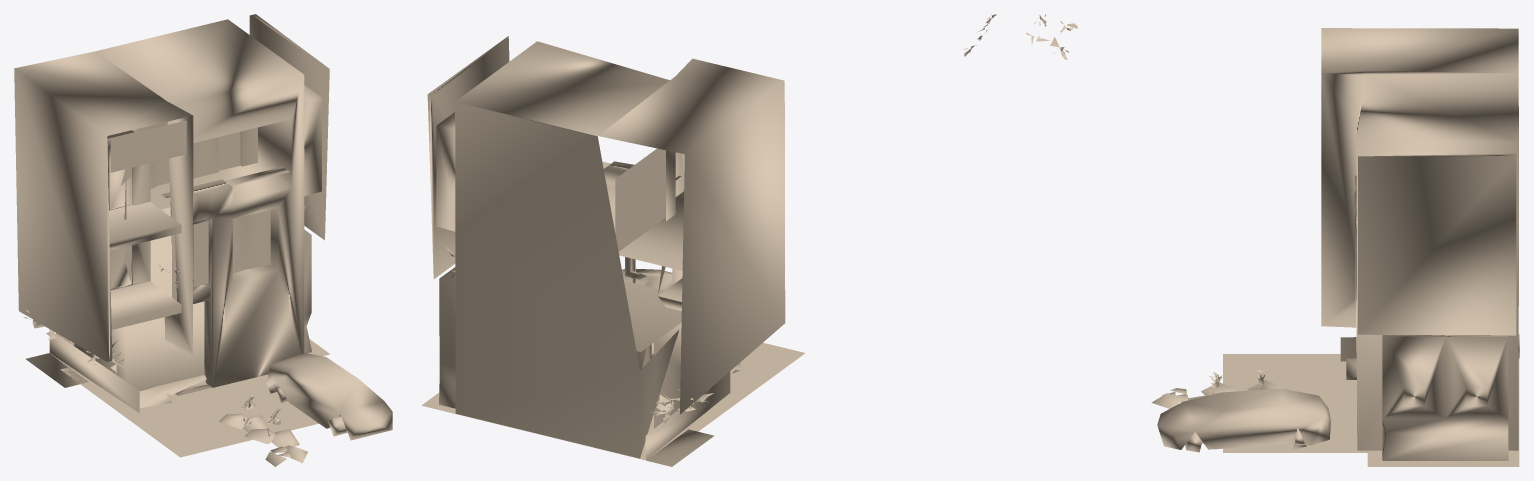
File: modern-house-lod.glb
3 views of the same model, side by side, from view 1: azimuth 30°, elevation 25°; view 2: azimuth 150°, elevation 25°; view 3: azimuth 270°, elevation 25° (orthographic). The views are drawn at different scales.
Parts seen in each view (by area): view 1: tripo_41f612b3_8e57_4923_981b_d7cf9720ebb3; view 2: tripo_41f612b3_8e57_4923_981b_d7cf9720ebb3; view 3: tripo_41f612b3_8e57_4923_981b_d7cf9720ebb3.
Boxes of the visible parts, x1,y1,x2,y2 form: tripo_41f612b3_8e57_4923_981b_d7cf9720ebb3: [14, 14, 392, 466]; tripo_41f612b3_8e57_4923_981b_d7cf9720ebb3: [421, 14, 996, 466]; tripo_41f612b3_8e57_4923_981b_d7cf9720ebb3: [1026, 14, 1519, 466].
Bounding box in the file's own units: 0.7573 × 0.6973 × 0.9771.
